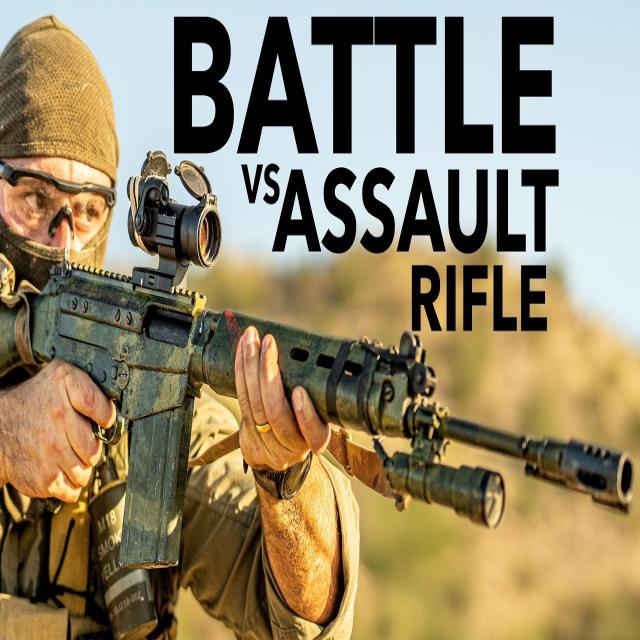Rifle: (0, 151, 635, 572)
